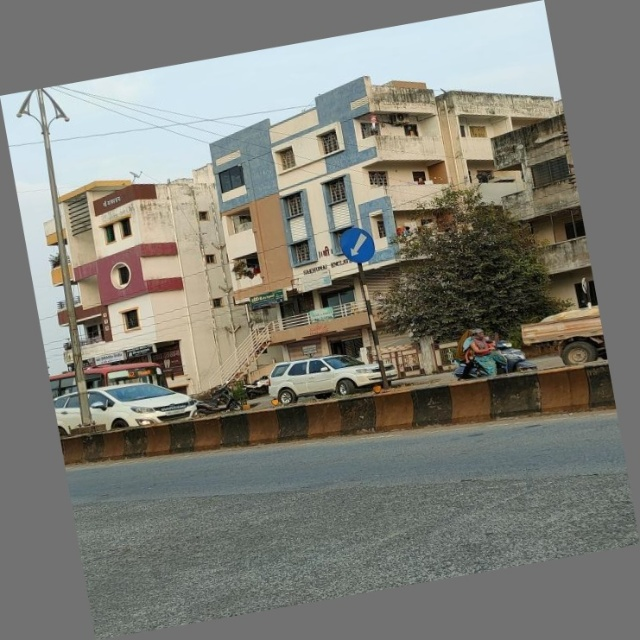R.301e: (334, 220, 389, 271)
